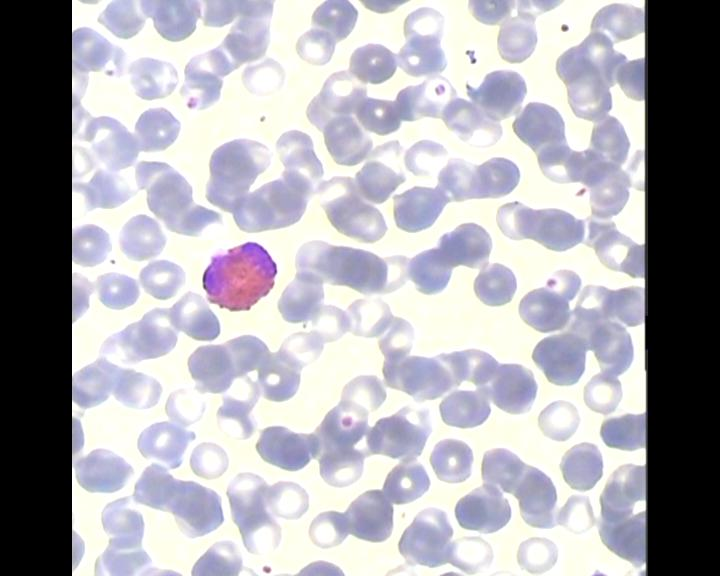eosi: (197, 240, 278, 315)
